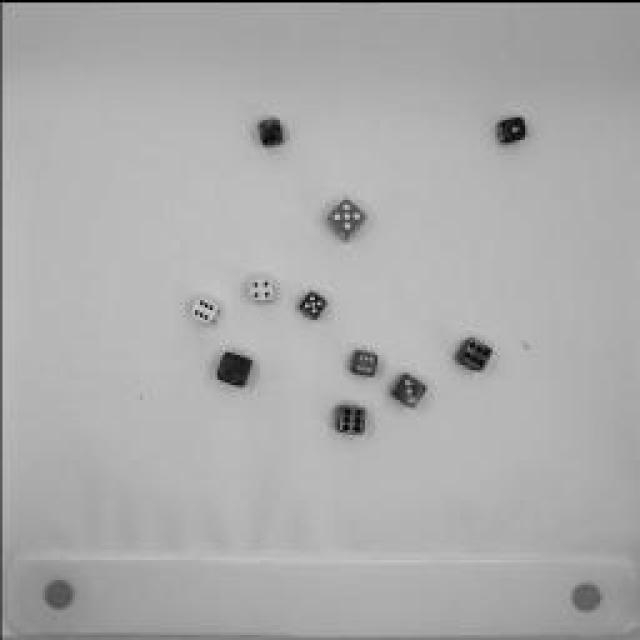dice_1: (492, 112, 528, 142)
dice_2: (213, 349, 255, 389)
dice_3: (389, 369, 431, 409)
dice_4: (245, 275, 275, 305)
dice_5: (320, 192, 370, 242), (254, 112, 284, 146), (298, 288, 328, 320)
dice_6: (450, 330, 495, 375), (188, 292, 222, 328), (342, 345, 380, 377), (330, 403, 365, 435)
